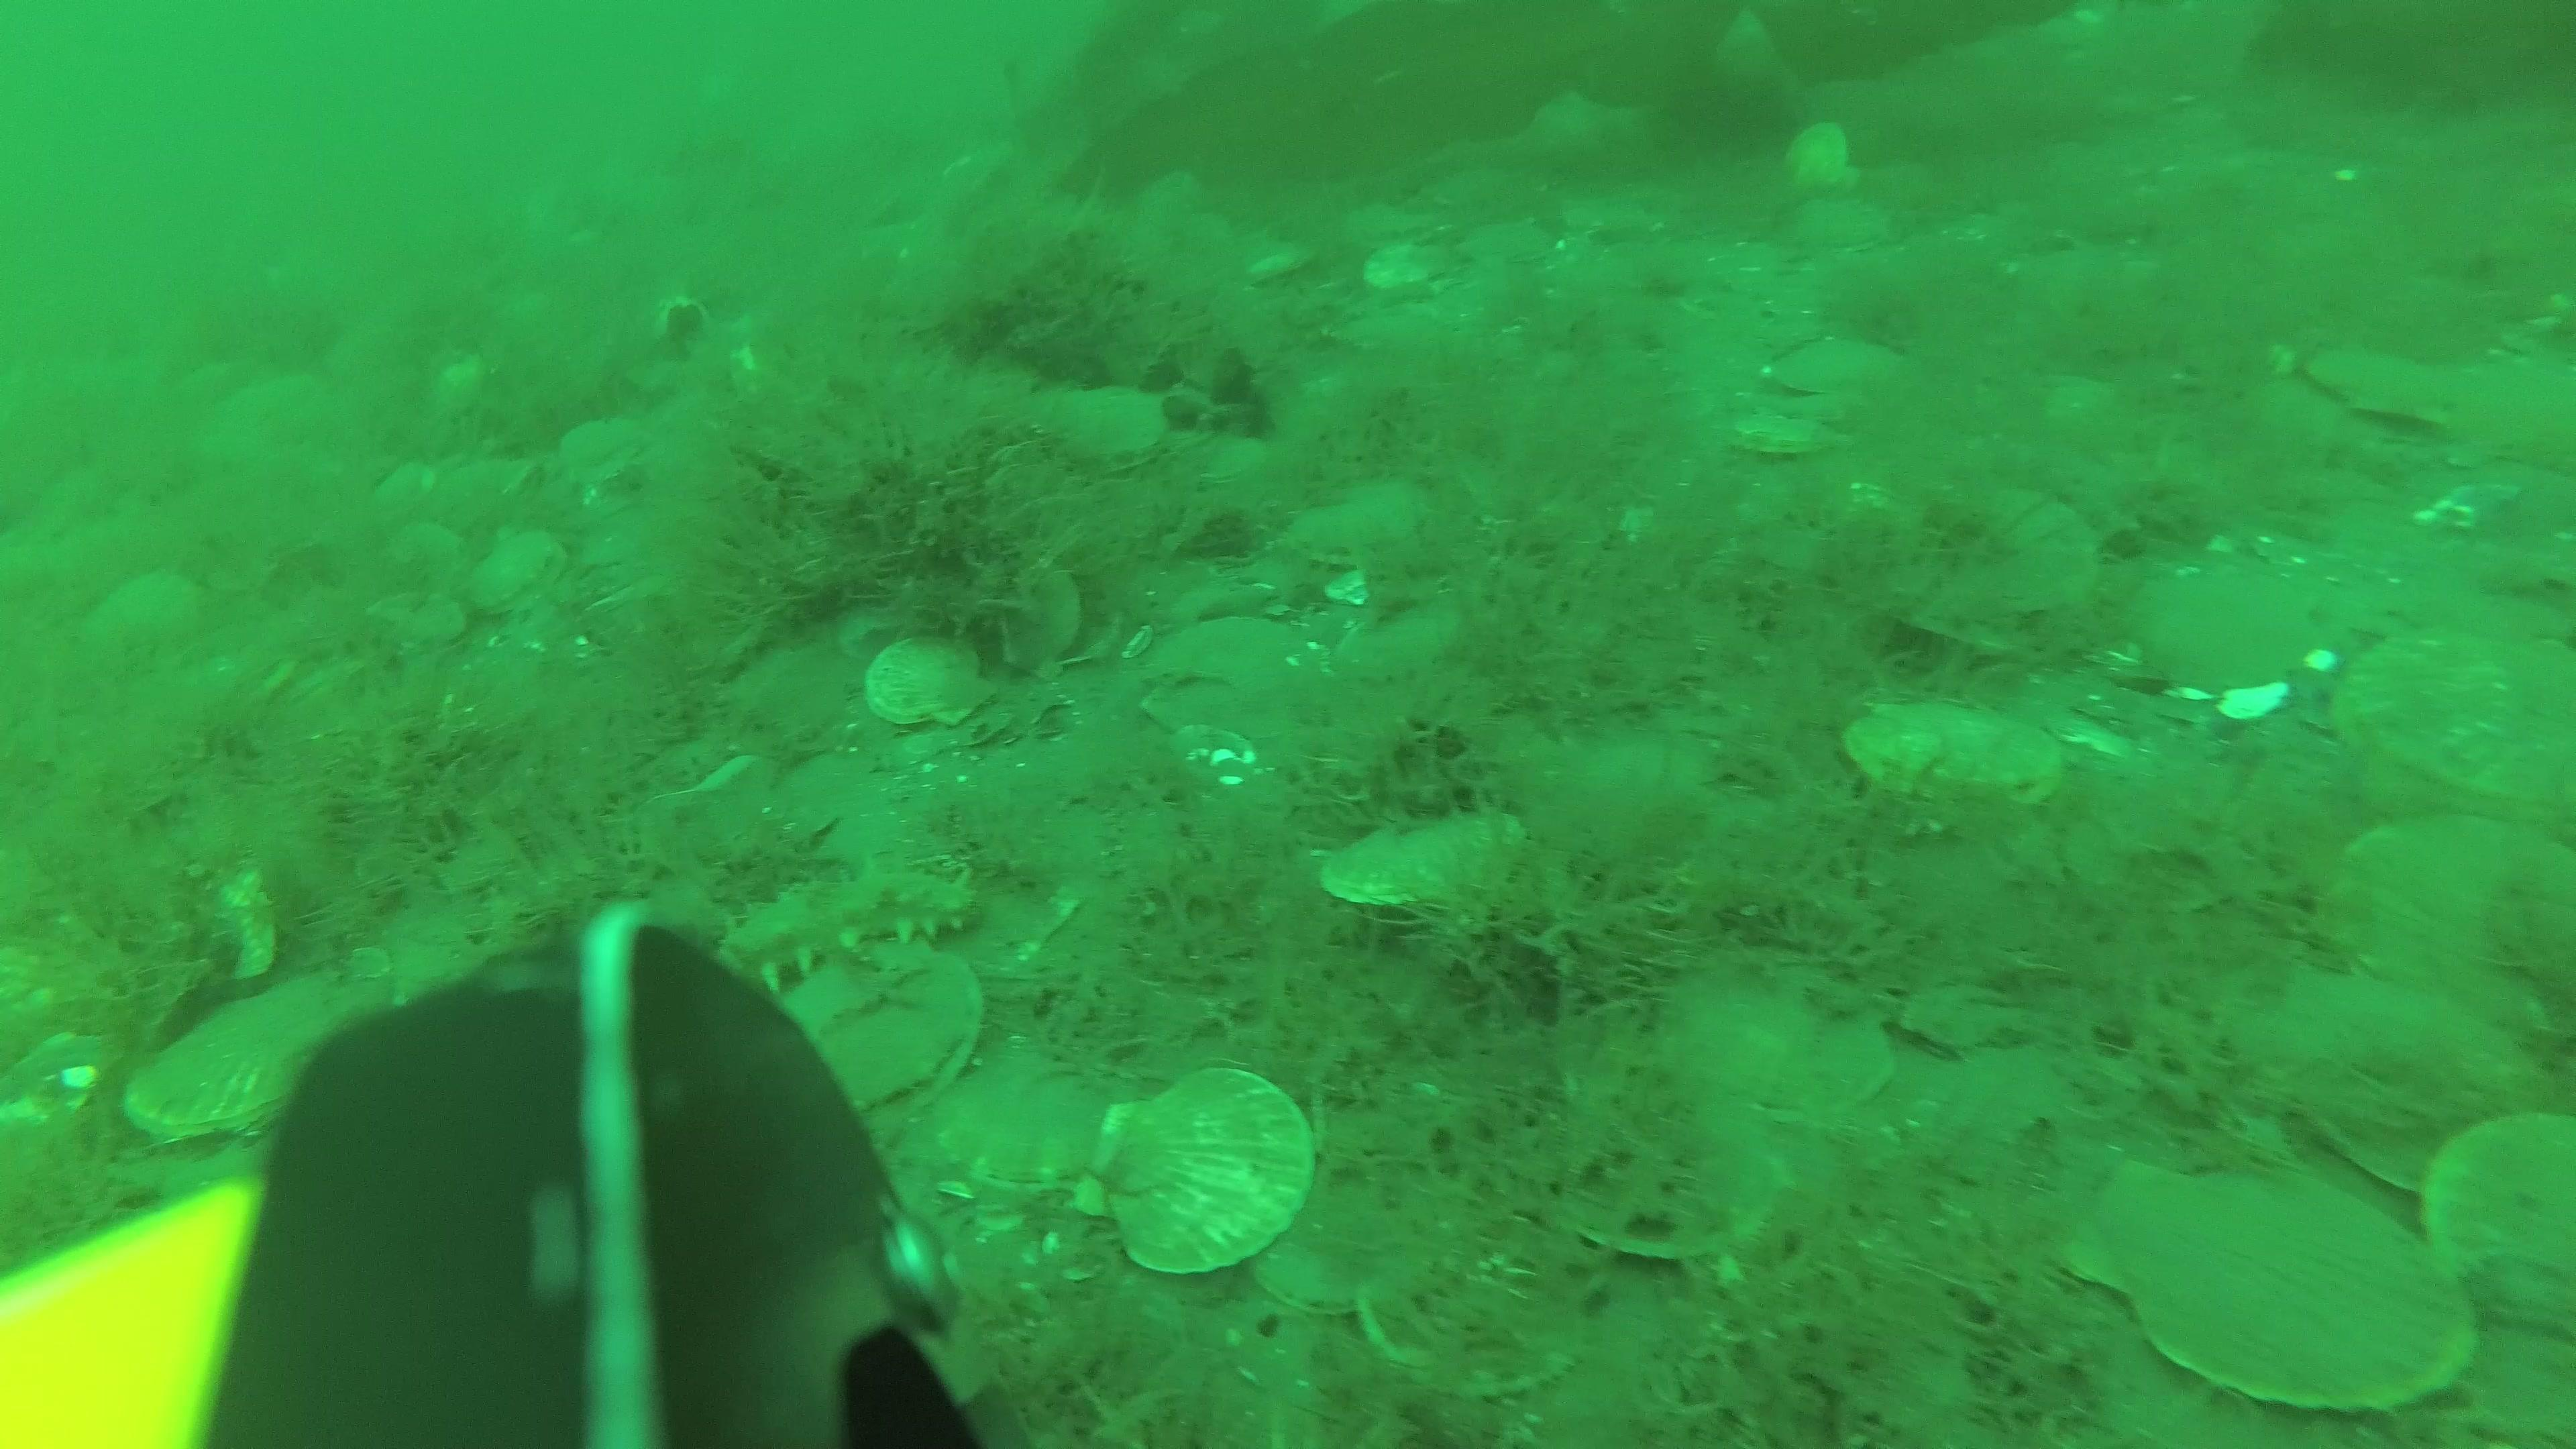holothurian: (713, 858, 985, 987)
scallop: (2084, 1150, 2480, 1426), (2252, 957, 2537, 1201), (2325, 803, 2576, 1049), (2337, 609, 2576, 823), (1539, 1067, 1778, 1267), (1097, 1079, 1313, 1297), (127, 961, 364, 1150), (1672, 947, 1905, 1127), (1254, 1125, 1454, 1320), (1891, 476, 2102, 658), (1375, 1228, 1587, 1394), (2434, 1104, 2565, 1366), (2123, 557, 2321, 699), (794, 947, 980, 1092), (1851, 688, 2072, 809), (945, 1051, 1108, 1205), (1334, 817, 1530, 932), (856, 637, 1000, 734), (1334, 593, 1467, 695), (1288, 481, 1445, 566), (2307, 340, 2450, 425), (1051, 377, 1168, 472), (1766, 329, 1913, 402), (987, 564, 1074, 679), (88, 580, 203, 663), (462, 538, 557, 626), (1732, 395, 1858, 460), (1368, 234, 1461, 308), (561, 414, 644, 495), (1468, 216, 1559, 283), (1782, 117, 1859, 191)
